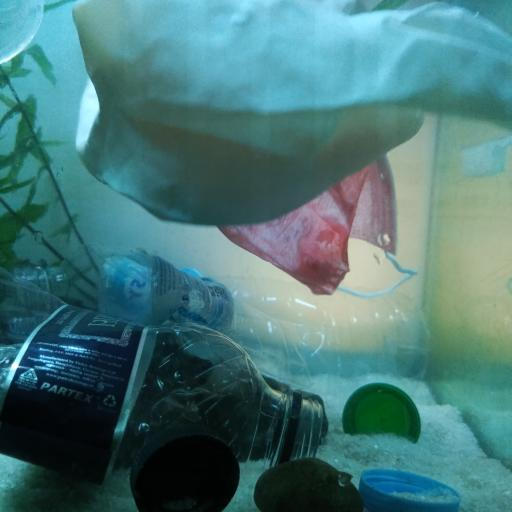bottle_cap: (129, 432, 238, 511), (342, 381, 422, 445), (363, 466, 465, 512)
glove: (69, 0, 512, 226)
mask: (220, 156, 418, 298)
plastic_bottle: (0, 276, 327, 474), (8, 244, 438, 390)
